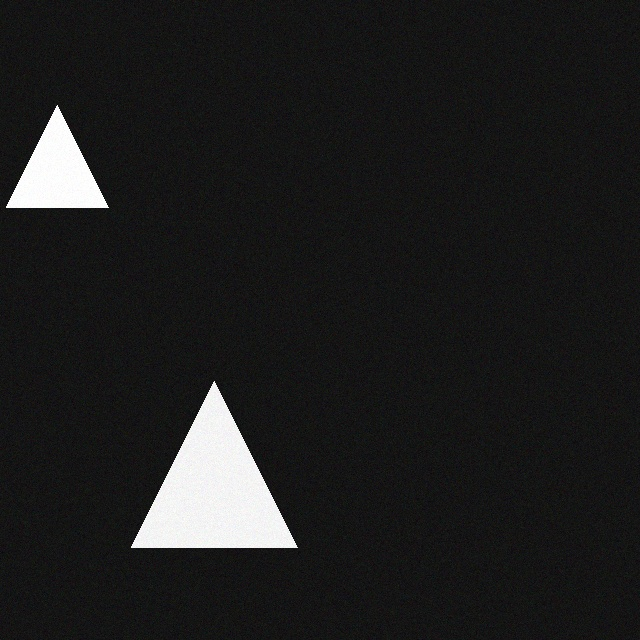triangle: (136, 393, 302, 559), (11, 117, 113, 219)
